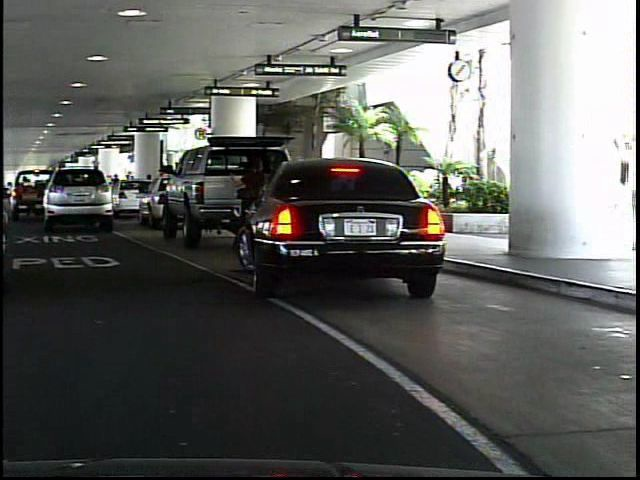person: (227, 150, 277, 254)
